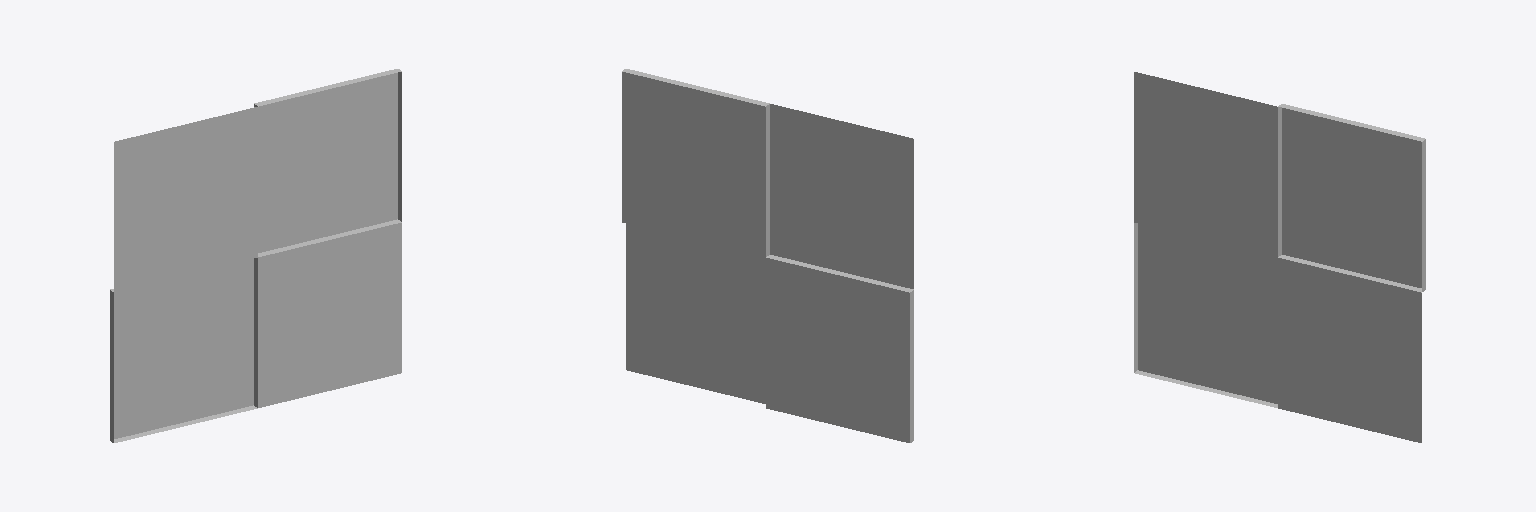
The model's file is floor.obj.
The picture shows the model from 3 angles: view 1: azimuth 30°, elevation 25°; view 2: azimuth 150°, elevation 25°; view 3: azimuth 330°, elevation 25°; orthographic projection.
Parts seen in each view (by area): view 1: floor.184; view 2: floor.184; view 3: floor.184.
Boxes of the visible parts, box(x1,y1,x2,y2) form: floor.184: box(110, 69, 401, 442); floor.184: box(622, 69, 913, 442); floor.184: box(1134, 72, 1425, 442).
Size of the model in its own units: 1 by 1 by 0.025.